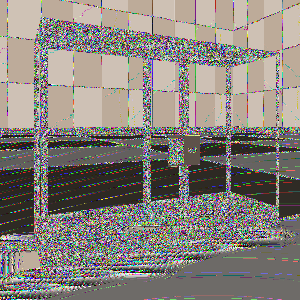Rack: (32, 15, 279, 278)
